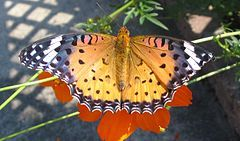Argyreus hyperbius: (19, 1, 219, 116)
butterfly: (17, 1, 217, 116)
